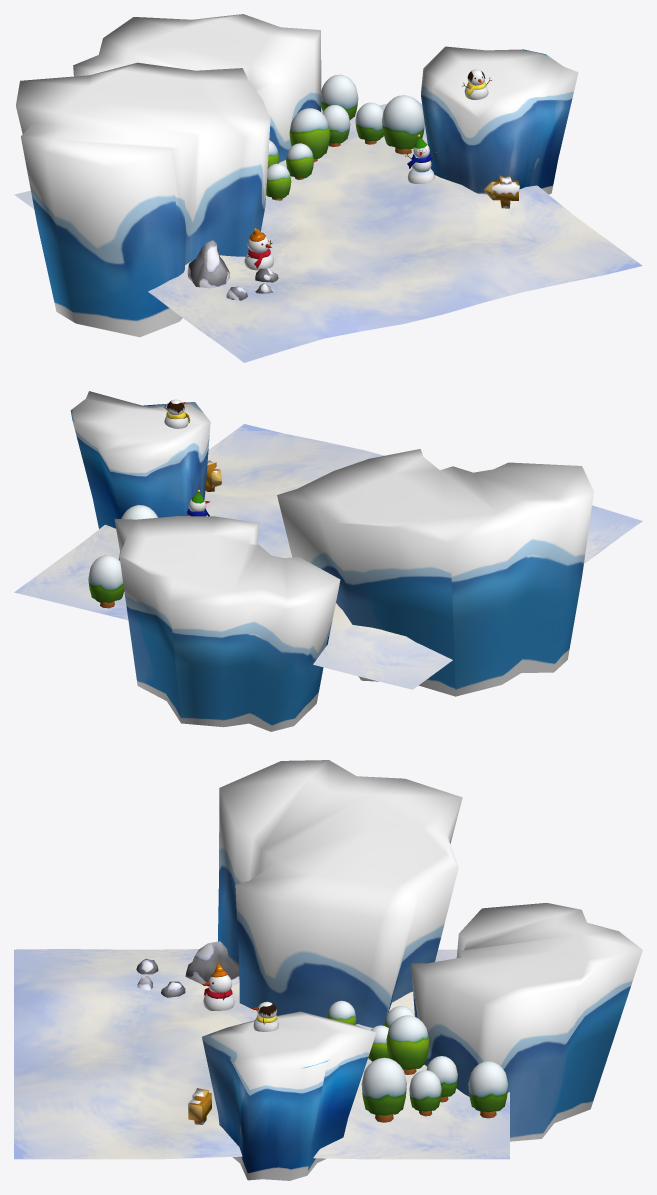
File: IceCamera1.FBX
3 renders of one model, top to bottom at view 1: azimuth 30°, elevation 25°; view 2: azimuth 150°, elevation 25°; view 3: azimuth 270°, elevation 25°, orthographic. The views are drawn at different scales.
Visible parts, largest first — view 1: tereno1, Iceberg009, Iceberg011, Iceberg008, Icethree041, Icethree045, Stone002, Icethree046, Icethree040, d001, Ice_man004, Icethree048 (+4 smaller); view 2: Iceberg009, Iceberg008, tereno1, Iceberg011, Icethree046, Ice_man006; view 3: Iceberg009, tereno1, Iceberg008, Iceberg011, Icethree041, Icethree045, Icethree046, Stone002, Icethree040, Ice_man004, Icethree047, Object003 (+1 smaller).
Part boxes in pixels (x1,y1,x2,y2): tereno1: (14, 97, 642, 362); Iceberg009: (16, 62, 270, 337); Iceberg011: (420, 46, 578, 194); Iceberg008: (73, 14, 321, 162); Icethree041: (381, 95, 424, 154); Icethree045: (289, 108, 330, 162); Stone002: (187, 240, 229, 288); Icethree046: (321, 74, 358, 120); Icethree040: (355, 102, 383, 144); d001: (405, 134, 438, 183); Ice_man004: (244, 228, 273, 270); Icethree048: (286, 143, 313, 179); Iceberg009: (277, 449, 593, 696); Iceberg008: (114, 516, 340, 731); tereno1: (14, 424, 642, 689); Iceberg011: (70, 391, 210, 528); Icethree046: (88, 555, 124, 608); Ice_man006: (163, 399, 189, 428); Iceberg009: (218, 760, 462, 1027); tereno1: (14, 949, 509, 1159); Iceberg008: (411, 903, 642, 1141); Iceberg011: (202, 1011, 376, 1180); Icethree041: (361, 1057, 406, 1122); Icethree045: (386, 1015, 429, 1074); Icethree046: (468, 1061, 508, 1118); Stone002: (185, 941, 239, 986); Icethree040: (409, 1070, 441, 1116); Ice_man004: (202, 962, 234, 1010); Icethree047: (426, 1056, 457, 1102); Object003: (188, 1088, 211, 1124).
Size of the model in its own units: 654 by 238 by 634.
